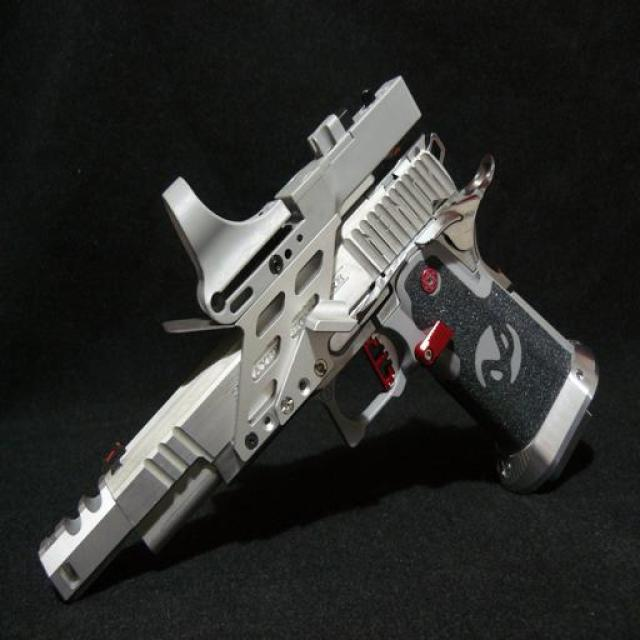pistol: (36, 74, 600, 610)
